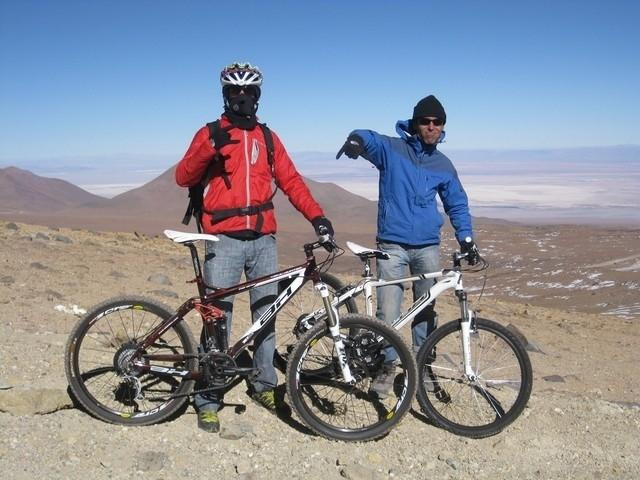non-vehicle: (62, 227, 424, 446), (268, 234, 536, 440)
